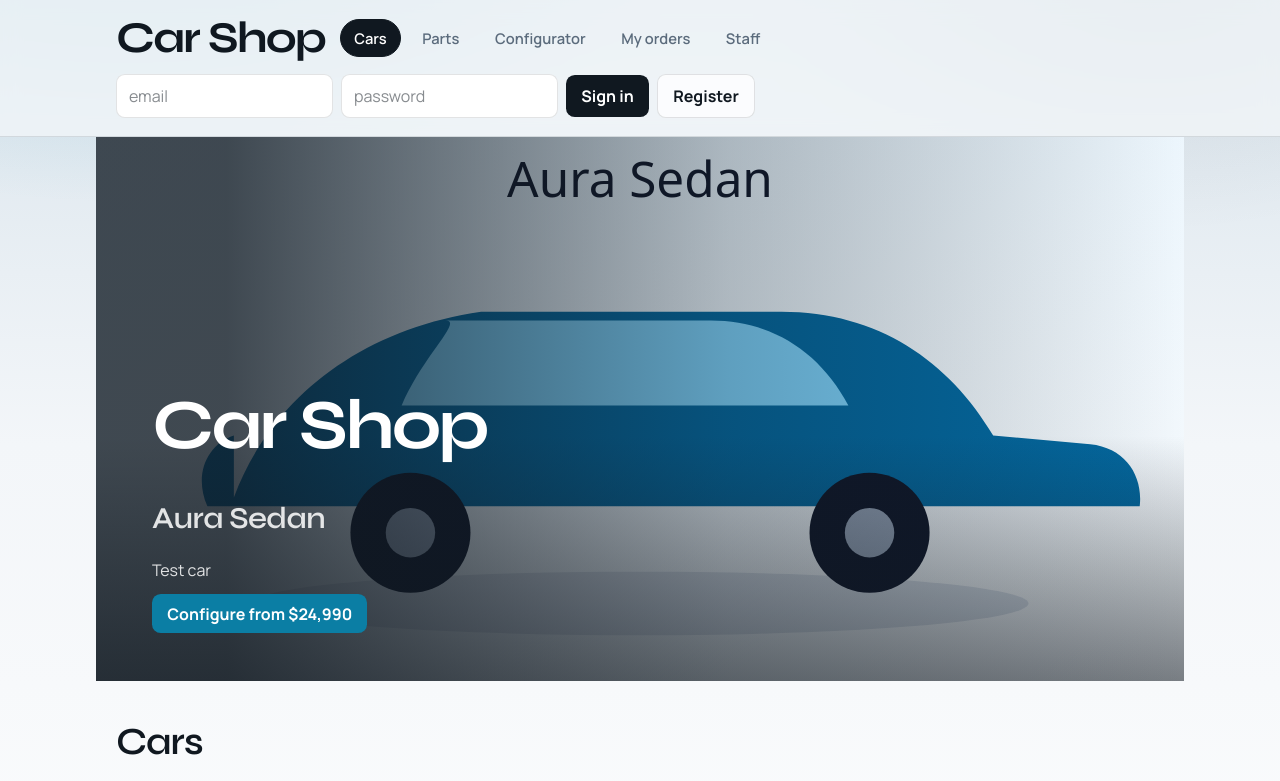
Test: App › shows catalog hero and opens configurator with server total
Expected: the text "Car Shop" in the row of "Parts" is shown, [116, 11, 325, 64]
Expected: the heading "Cars" is shown, [116, 718, 202, 765]
Click the link "Configurator": (540, 38) [495, 28, 586, 48]
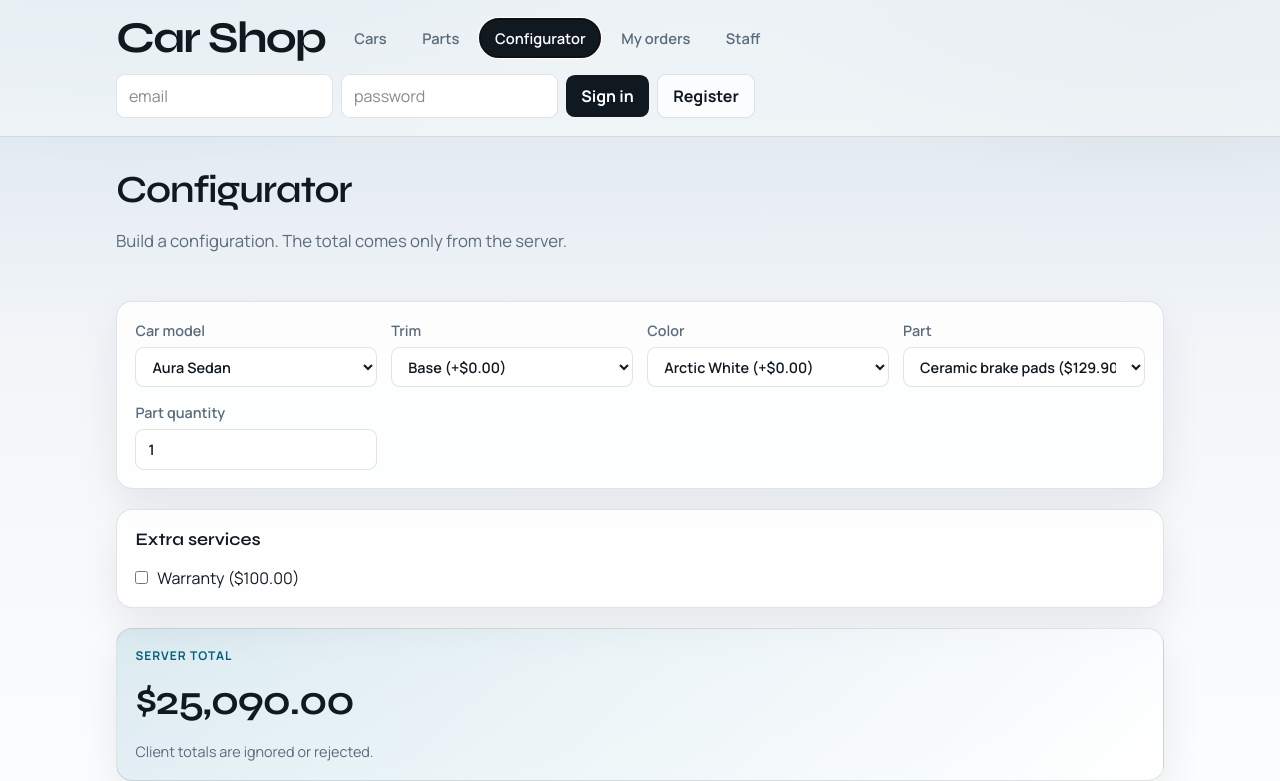
Result: the text "Server total" is shown at [135, 647, 232, 664]
Result: the text "$25,090.00" is shown at [135, 676, 353, 726]
